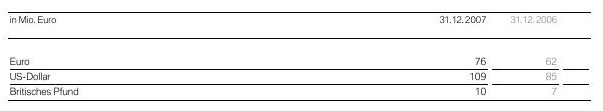table: (0, 0, 603, 111)
